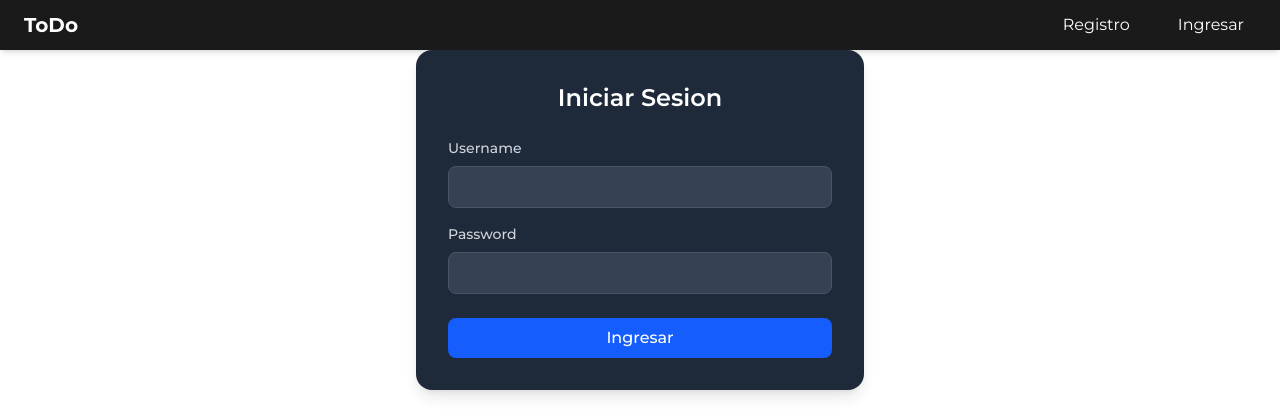
Test case: Login form › should login correctly when the submit button is clicked & show the username in the header
The image size is (1280, 416).
Check: the password field labelled "Password" is shown, box [448,252,832,294]
Type "test-user" into the field labelled "Username" at (640, 187), box [448,166,832,208]
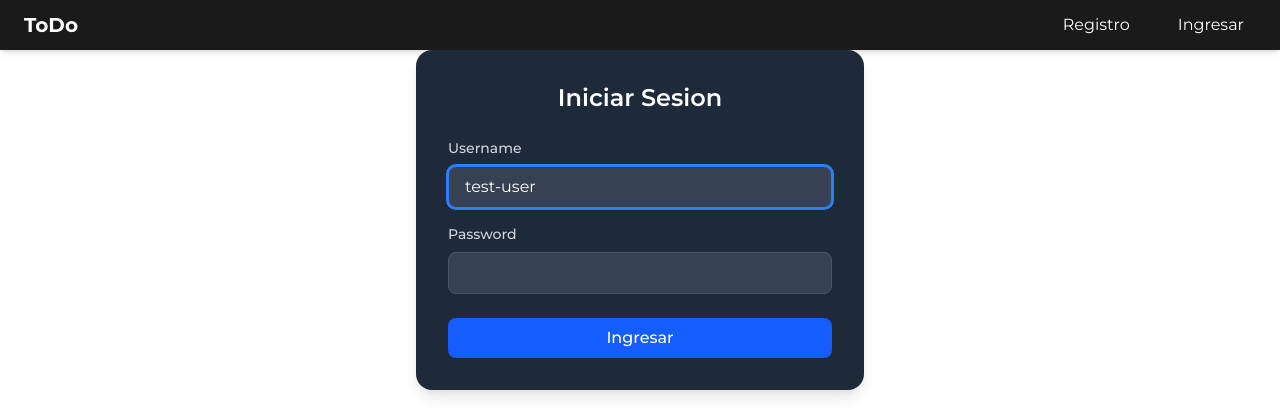
Type "test123" into the password field labelled "Password" at (640, 273), box [448,252,832,294]
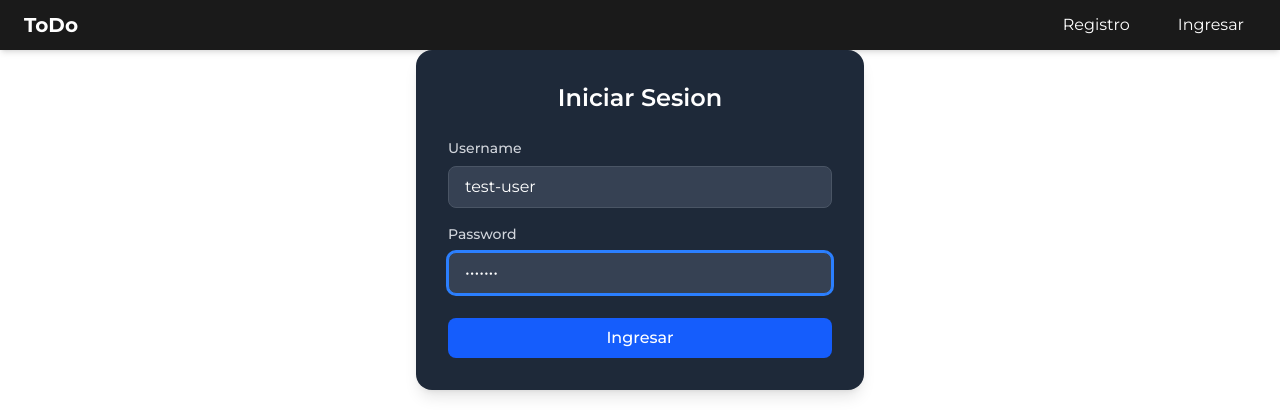
Click the button "Ingresar" at (640, 338), box [448,318,832,358]
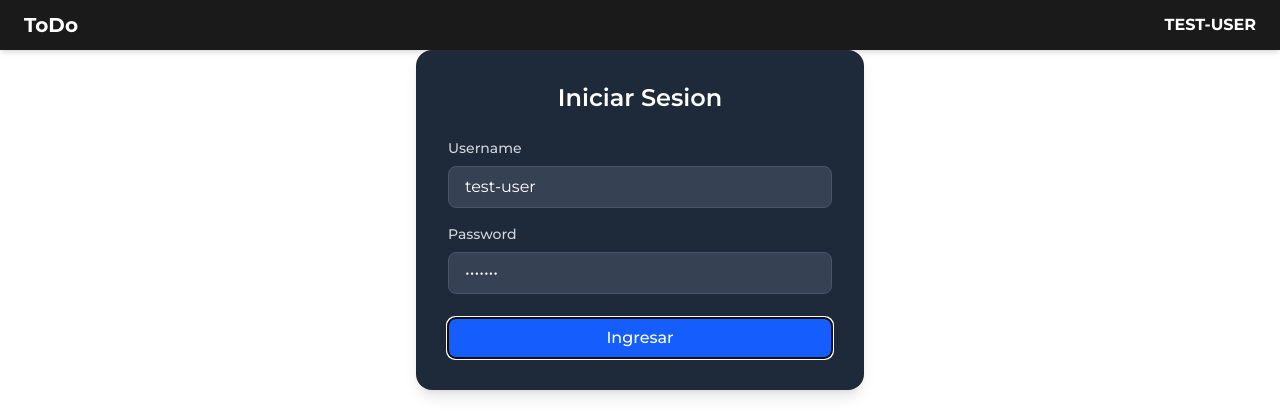
Check: the text "TEST-USER" is shown, box [1164,13,1256,37]
